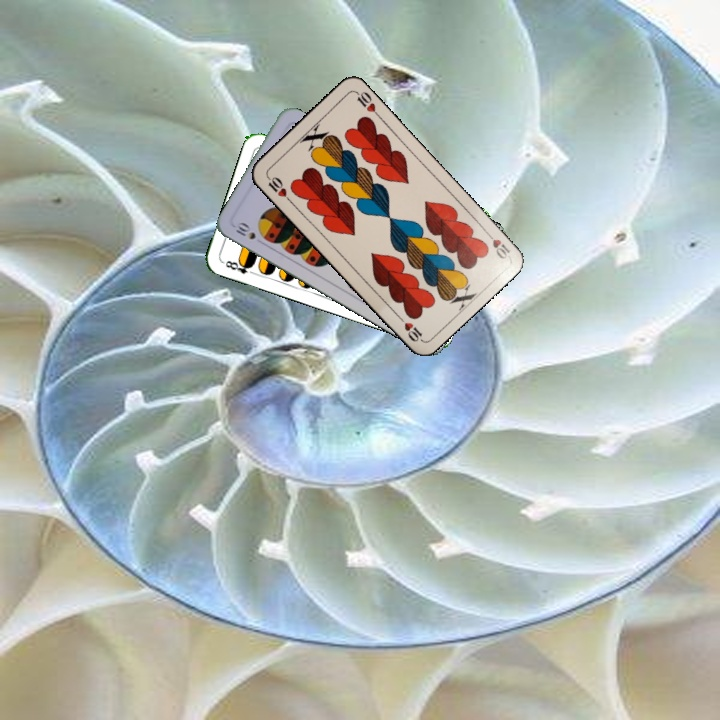E8: (219, 257, 258, 277)
H10: (481, 227, 513, 262), (263, 172, 294, 205)
S10: (232, 218, 258, 242)
